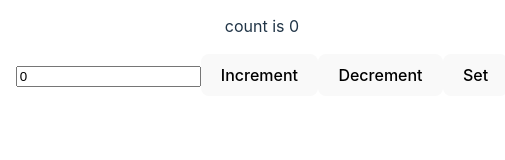
Test: #App Counter › should set counter to -1 after decrement button is clicked
Step 1. Click the button "Decrement" → (380, 75), box [318, 54, 443, 96]
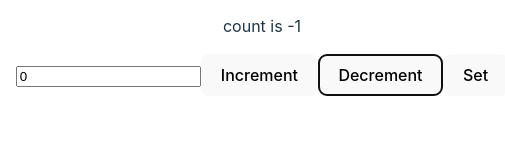
expect the text "count is -1" is shown: met, box [223, 16, 301, 36]
